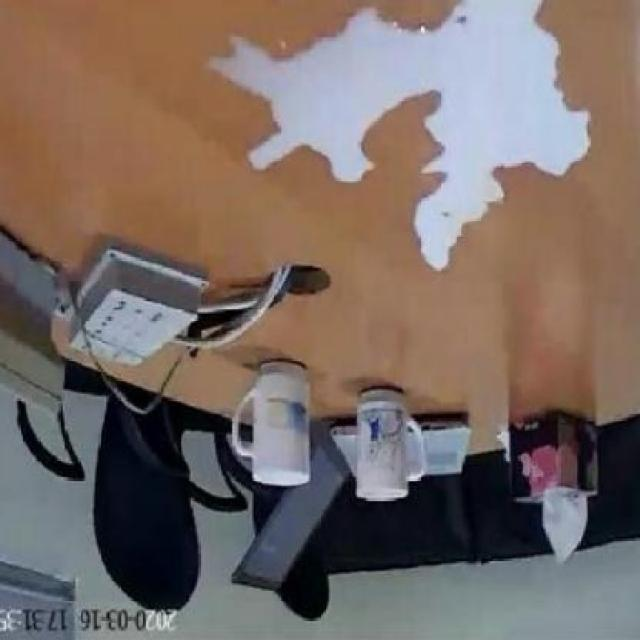spillage: (208, 0, 591, 271)
